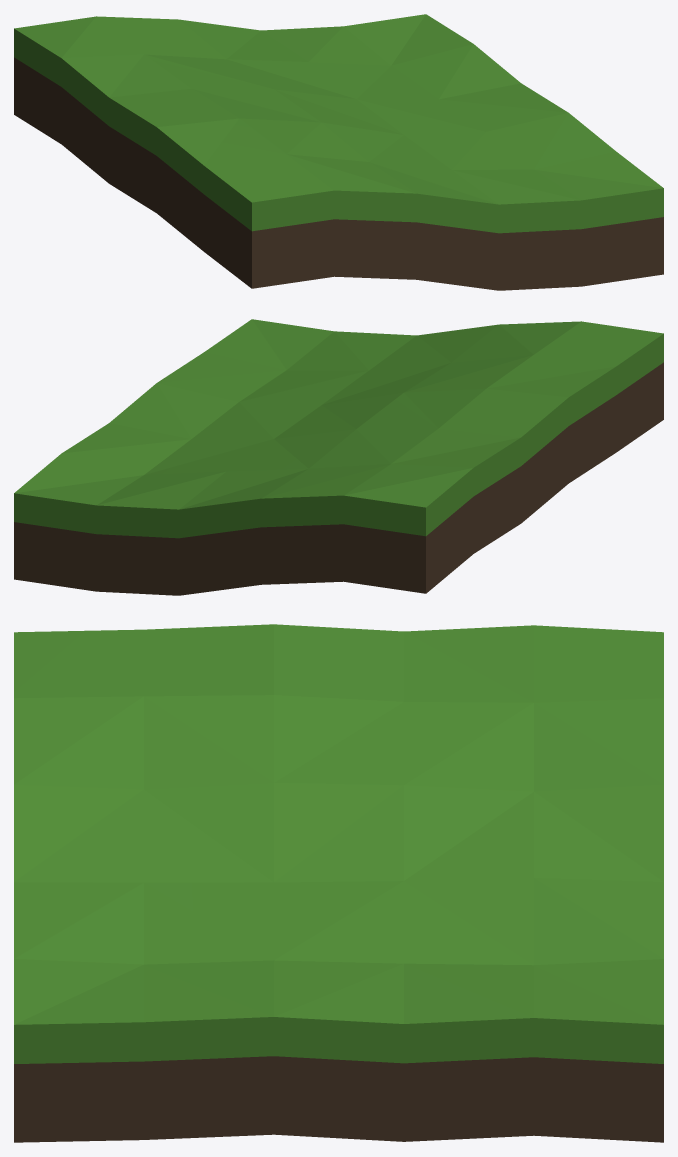
The model's file is terrain-world-slope3.glb.
3 renders of one model, top to bottom at view 1: azimuth 30°, elevation 25°; view 2: azimuth 150°, elevation 25°; view 3: azimuth 270°, elevation 25°, orthographic. The views are drawn at different scales.
Parts seen in each view (by area): view 1: terrain-world-slope3; view 2: terrain-world-slope3; view 3: terrain-world-slope3.
Part boxes in pixels (<box>): terrain-world-slope3: <box>14,14,663,290</box>; terrain-world-slope3: <box>14,319,663,595</box>; terrain-world-slope3: <box>14,624,663,1142</box>.
Size of the model in its own units: 30.01 by 12.4 by 30.
1 material, 1 textured.
